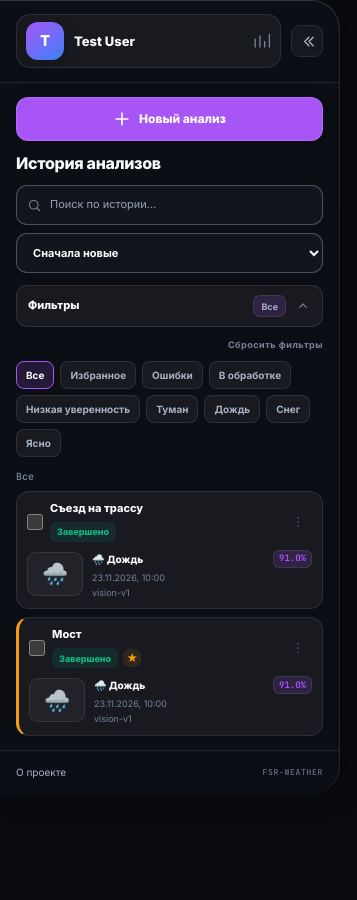
History sidebar actions menu › shows both favorite actions for a mixed selection
The width and height of the screenshot is (357, 900).
Click the checkbox named "Выбрать запись Съезд на трассу" at (35, 522), box [27, 514, 43, 530]
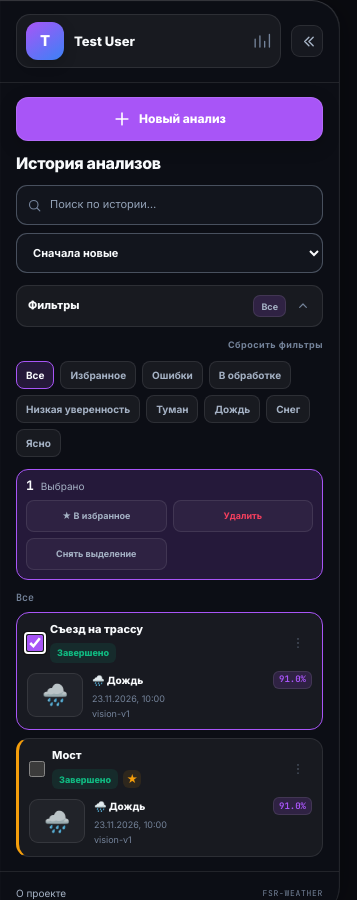
Click the checkbox named "Выбрать запись Мост" at (37, 769), box [29, 761, 45, 777]
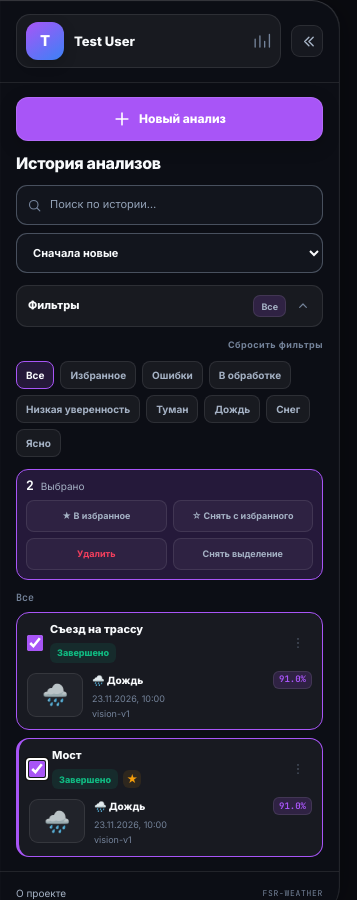
Check: the button with aria-label "Добавить выбранные записи в избранное" is shown, box [26, 500, 166, 532]
Check: the button with aria-label "Снять выбранные записи с избранного" is shown, box [172, 500, 313, 532]
